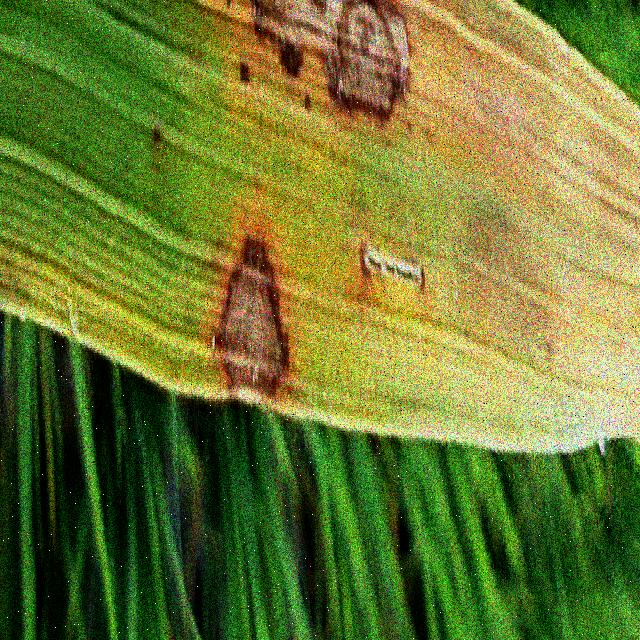LEAF BLAST: (251, 0, 408, 119), (217, 236, 288, 392), (359, 246, 427, 295)
